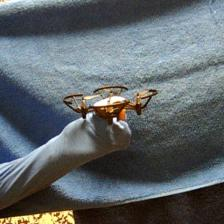drone: (62, 84, 160, 121)
